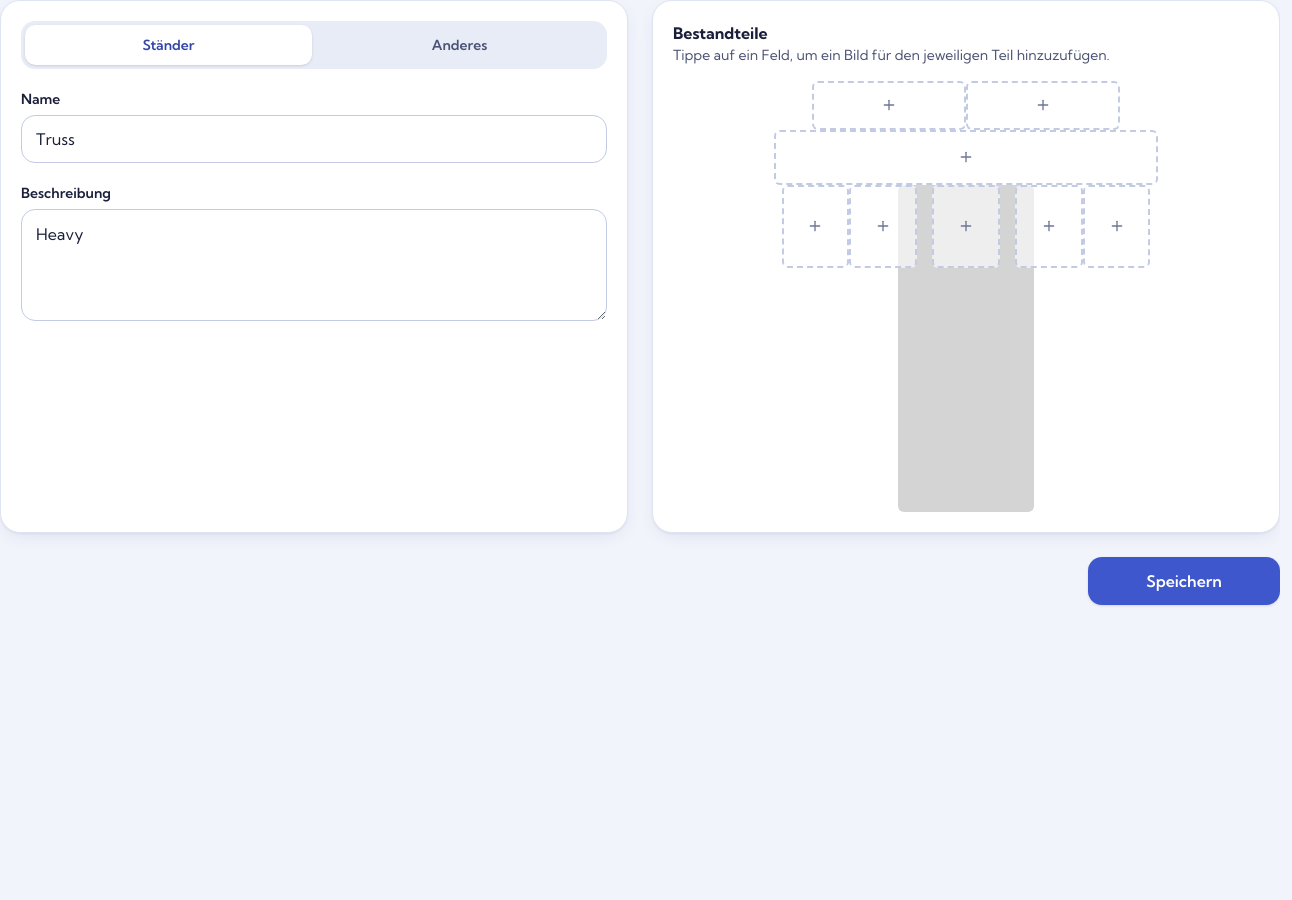
Test: EquipmentForm (edit) › drops stand parts when the type is switched to other equipment, so the server never sees invalid slots
The width and height of the screenshot is (1292, 900).
Click the tab "Anderes": [460, 45] box [316,25,603,65]
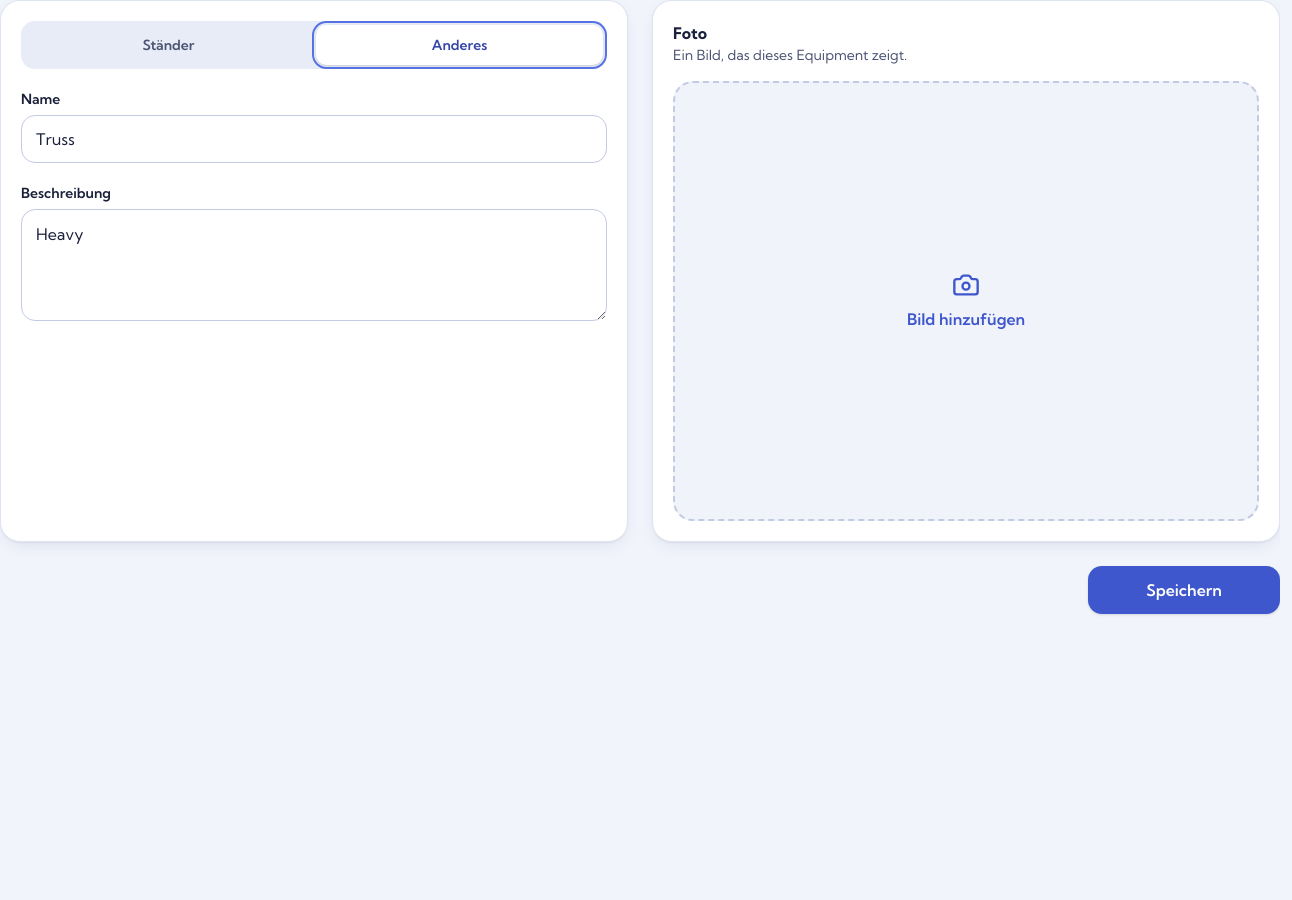
Click the button "Speichern": [1184, 590] box [1088,566,1280,614]
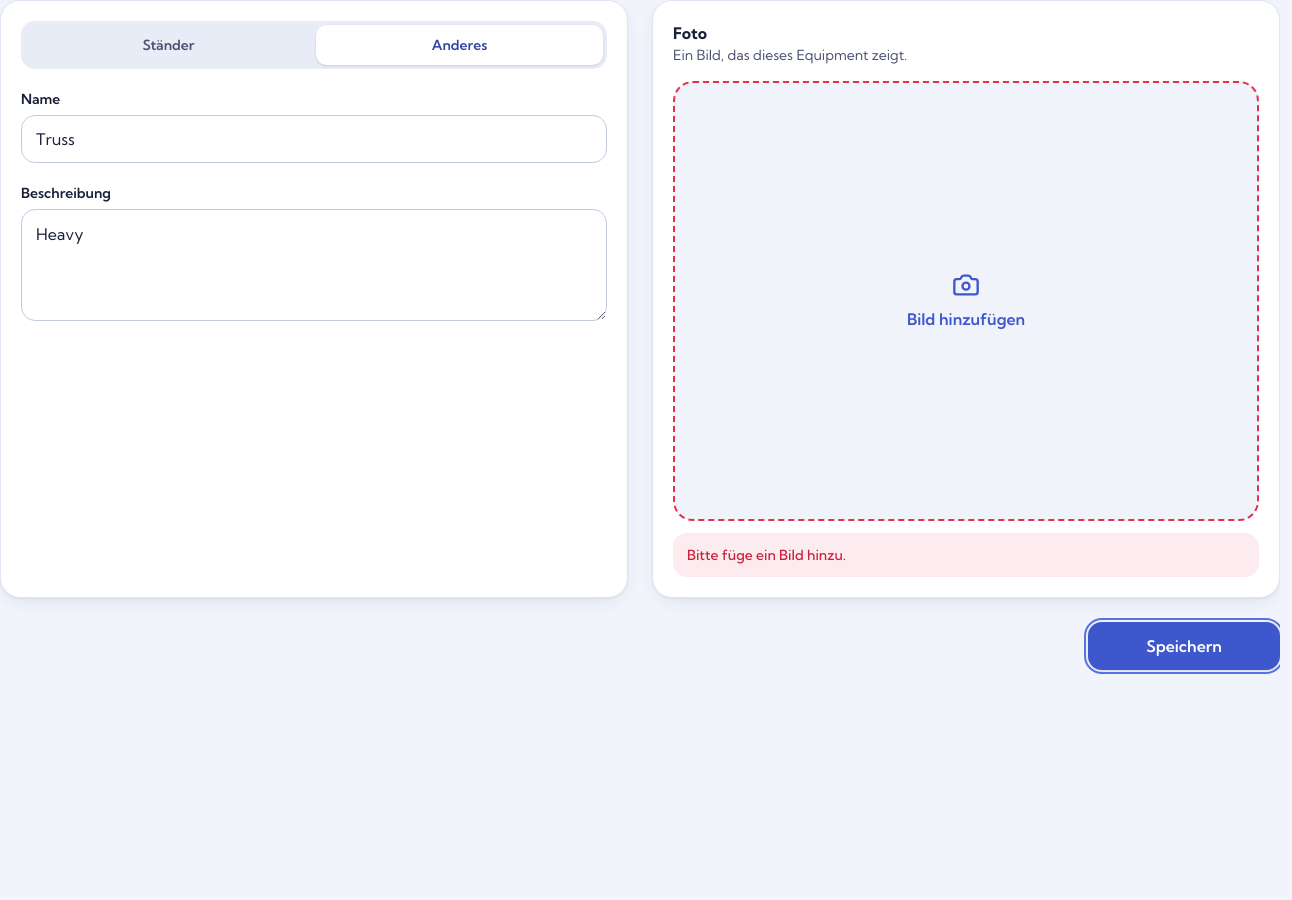
Now the text "Bitte füge ein Bild hinzu." is shown, box [673,532,1259,576]
